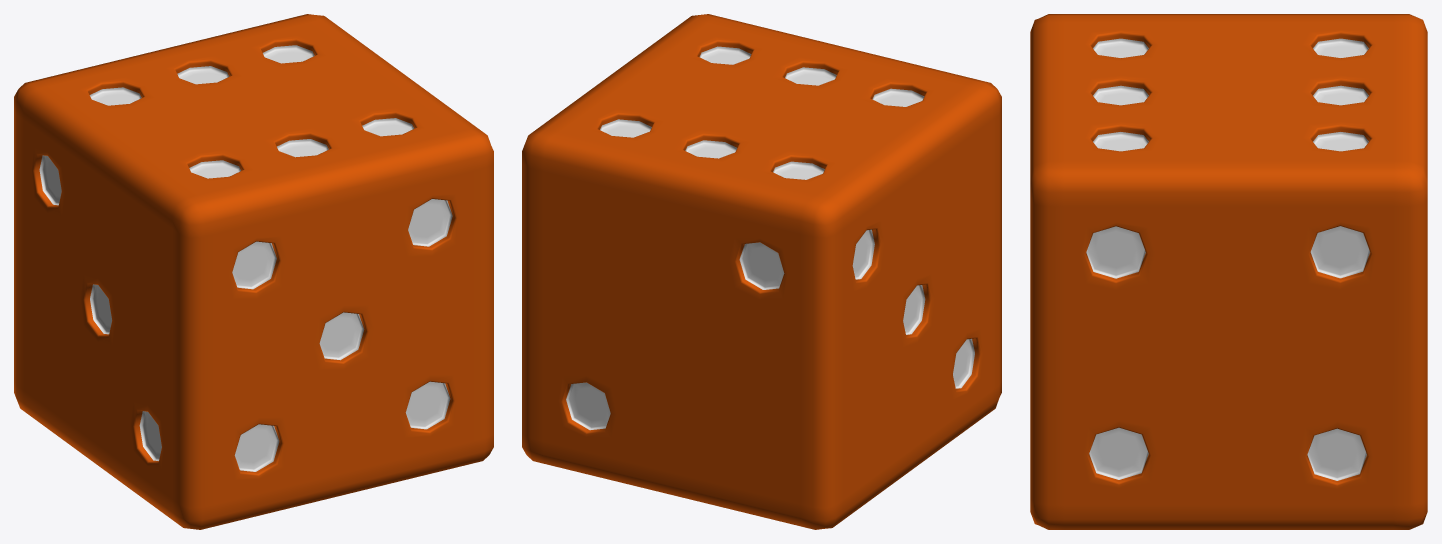
The model's file is 3-Dice.fbx.
The picture shows the model from 3 angles, left to right: view 1: azimuth 30°, elevation 25°; view 2: azimuth 150°, elevation 25°; view 3: azimuth 270°, elevation 25°; orthographic projection. The views are drawn at different scales.
Visible parts, largest first — view 1: dice:Dice; view 2: dice:Dice; view 3: dice:Dice.
Part boxes in pixels (bbox=[...]): dice:Dice: bbox=[14, 14, 493, 529]; dice:Dice: bbox=[522, 14, 1001, 529]; dice:Dice: bbox=[1030, 14, 1427, 529].
Bounding box in the file's own units: 19.44 × 19.44 × 19.44.
